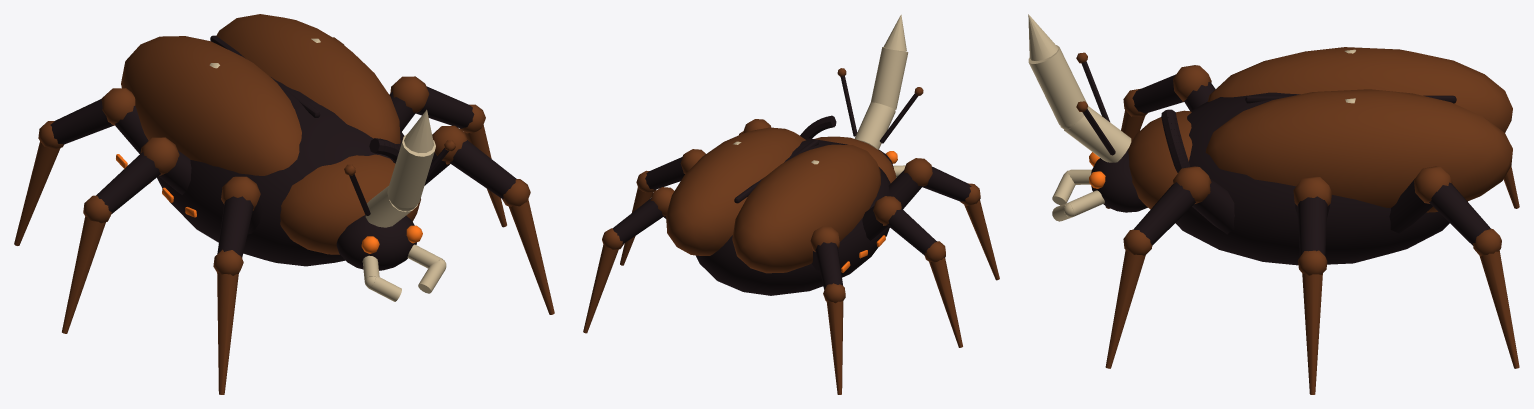
File: Brute.obj
3 renders of one model, left to right at view 1: azimuth 30°, elevation 25°; view 2: azimuth 150°, elevation 25°; view 3: azimuth 270°, elevation 25°, orthographic. The views are drawn at different scales.
Visible parts, largest first — view 1: Brute; view 2: Brute; view 3: Brute.
Boxes of the visible parts, bbox=[...] form: Brute: bbox=[14, 14, 554, 394]; Brute: bbox=[583, 14, 999, 394]; Brute: bbox=[1028, 14, 1519, 394].
Size of the model in its own units: 1.33 by 0.7886 by 1.28.
